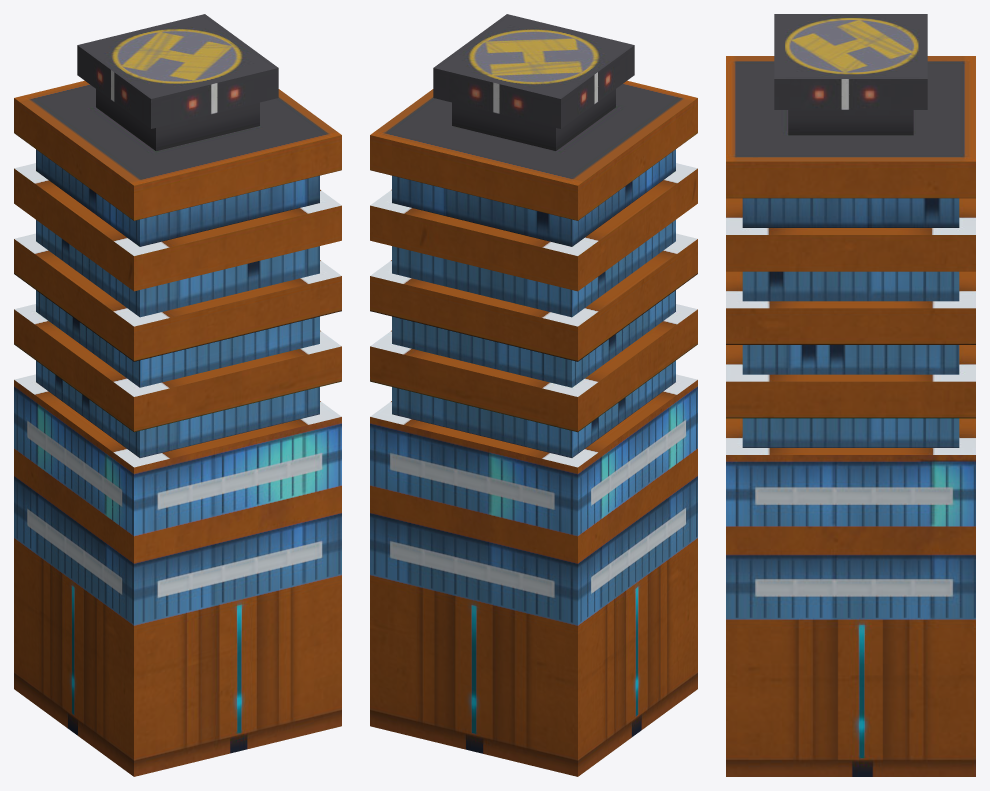
Rendered from House_32.FBX.
The picture shows the model from 3 angles, left to right: view 1: azimuth 30°, elevation 25°; view 2: azimuth 150°, elevation 25°; view 3: azimuth 270°, elevation 25°; orthographic projection. The views are drawn at different scales.
Parts seen in each view (by area): view 1: House_032; view 2: House_032; view 3: House_032.
Part boxes in pixels (x1,y1,x2,y2): House_032: [14, 14, 341, 776]; House_032: [370, 14, 697, 776]; House_032: [726, 14, 975, 776].
Size of the model in its own units: 30 by 89.8 by 30.
Materials: 1 (1 with a texture image).
